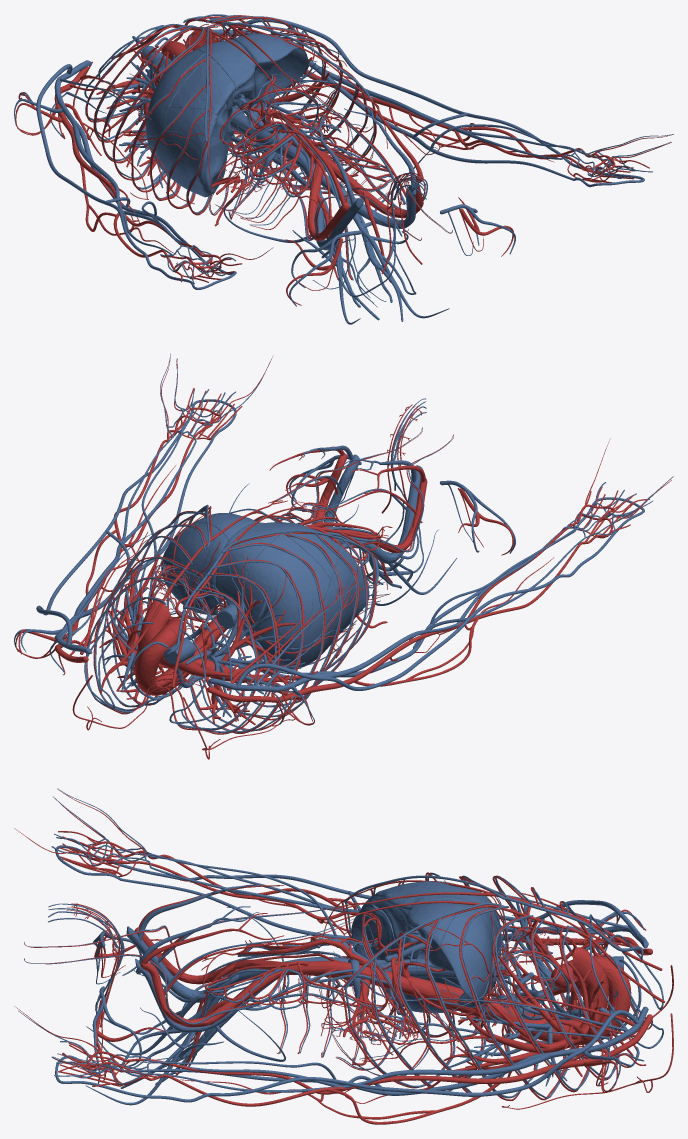
File: vascular-base-lux.glb
3 renders of one model, top to bottom at view 1: azimuth 30°, elevation 25°; view 2: azimuth 150°, elevation 25°; view 3: azimuth 270°, elevation 25°, orthographic. The views are drawn at different scales.
Parts seen in each view (by area): view 1: FJ2409, FJ1961, FJ1994, FJ2821, FJ2820, FJ1975, FJ2819, FJ2220, FJ1985, FJ2824, FJ2272, FJ2818 (+20 smaller); view 2: FJ2824, FJ1994, FJ1961, FJ1985, FJ2818, FJ2820, FJ2272, FJ1858, FJ1975, FJ2409, FJ3411, FJ2220 (+10 smaller); view 3: FJ1985, FJ1975, FJ2818, FJ2220, FJ2820, FJ1994, FJ2819, FJ1932, FJ2272, FJ3427, FJ2409, FJ2219 (+34 smaller).
Boxes of the visible parts, box(x1,y1,x2,y2) form: FJ2409: box(163, 107, 234, 197); FJ1961: box(86, 25, 250, 215); FJ1994: box(84, 24, 242, 214); FJ2821: box(169, 57, 235, 131); FJ2820: box(196, 39, 256, 117); FJ1975: box(202, 15, 376, 190); FJ2819: box(233, 34, 301, 102); FJ2220: box(237, 18, 613, 175); FJ1985: box(180, 14, 374, 189); FJ2824: box(147, 49, 210, 114); FJ2272: box(36, 64, 183, 281); FJ2818: box(232, 33, 308, 118); FJ2824: box(237, 533, 330, 657); FJ1994: box(169, 532, 374, 732); FJ1961: box(147, 534, 376, 734); FJ1985: box(84, 505, 223, 712); FJ2818: box(161, 522, 228, 615); FJ2820: box(215, 522, 303, 605); FJ2272: box(236, 532, 615, 690); FJ1858: box(258, 580, 342, 669); FJ1975: box(86, 507, 223, 714); FJ2409: box(331, 548, 369, 634); FJ3411: box(135, 627, 177, 695); FJ2220: box(36, 427, 184, 645); FJ1985: box(333, 906, 663, 1098); FJ1975: box(332, 908, 638, 1101); FJ2818: box(440, 905, 491, 1007); FJ2220: box(106, 1010, 640, 1102); FJ2820: box(383, 882, 497, 956); FJ1994: box(333, 872, 663, 1040); FJ2819: box(408, 903, 470, 971); FJ1932: box(277, 960, 453, 1008); FJ2272: box(106, 861, 640, 934); FJ3427: box(280, 961, 596, 1045); FJ2409: box(351, 902, 429, 1011); FJ2219: box(346, 1059, 588, 1090).
Bounding box in the file's own units: 0.6489 × 0.2213 × 0.6821.
